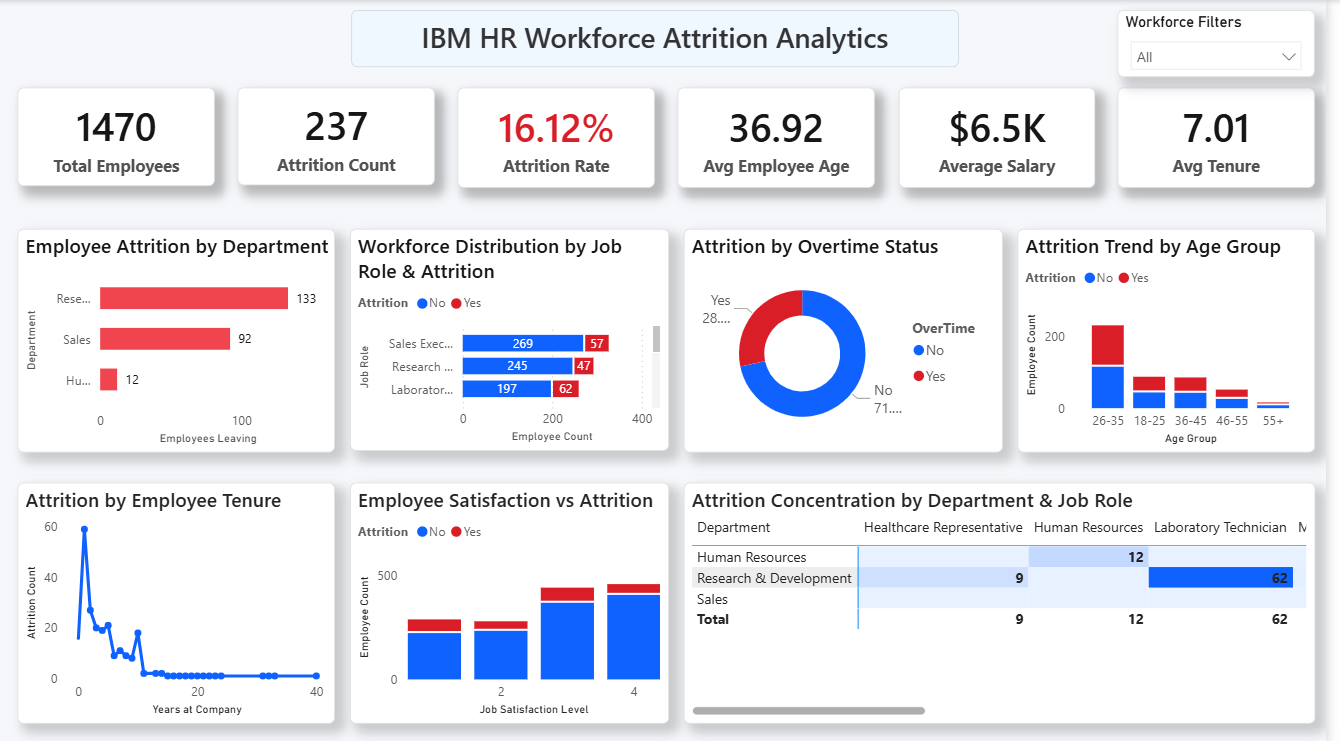

Layout of this report page (visuals, bound fields, positions):
{"tool":"powerbi","page":{"name":"Page 1","canvas":[1280,720],"ordinal":0},"visuals":[{"type":"card","fields":{"Values":["employee_attrition.Total Employees"]},"box":[16.4,84.5,190.6,95.3],"z":0},{"type":"card","fields":{"Values":["employee_attrition.Attrition Count"]},"box":[229.1,84.5,190.6,94.1],"z":1000},{"type":"card","fields":{"Values":["employee_attrition.Attrition Rate %"]},"box":[441.8,84.5,190.6,96.5],"z":2000},{"type":"card","fields":{"Values":["employee_attrition.Average Age"]},"box":[654.4,84.5,190.6,96.5],"z":3000},{"type":"card","fields":{"Values":["employee_attrition.Average Monthly Income"]},"box":[867.1,84.5,189.4,96.5],"z":4000},{"type":"card","fields":{"Values":["employee_attrition.Average Years at Company"]},"box":[1078.6,84.5,190.6,96.5],"z":5000},{"type":"clusteredBarChart","title":"Employee Attrition by Department","fields":{"Category":["employee_attrition.Department"],"Y":["employee_attrition.Attrition Count"]},"box":[16.9,220.8,306.4,216],"z":6000},{"type":"barChart","title":"Workforce Distribution by Job Role & Attrition","fields":{"Series":["employee_attrition.Attrition"],"Category":["employee_attrition.JobRole"],"Y":["CountNonNull(employee_attrition.EmployeeNumber)"]},"box":[337.8,220.8,307.6,214.7],"z":7000},{"type":"donutChart","title":"Attrition by Overtime Status","fields":{"Category":["employee_attrition.OverTime"],"Y":["CountNonNull(employee_attrition.Attrition)"]},"box":[659.9,220.8,307.6,216],"z":8000},{"type":"lineChart","title":"Attrition by Employee Tenure","fields":{"Category":["employee_attrition.YearsAtCompany"],"Y":["employee_attrition.Attrition Count"]},"box":[16.9,465.7,306.4,232.8],"z":9000},{"type":"columnChart","title":"Employee Satisfaction vs Attrition","fields":{"Category":["employee_attrition.JobSatisfaction"],"Series":["employee_attrition.Attrition"],"Y":["CountNonNull(employee_attrition.EmployeeNumber)"]},"box":[337.8,465.7,307.6,232.8],"z":10000},{"type":"pivotTable","title":"Attrition Concentration by Department & Job Role","fields":{"Rows":["employee_attrition.Department"],"Columns":["employee_attrition.JobRole"],"Values":["employee_attrition.Attrition Count"]},"box":[659.9,465.7,609.3,232.8],"z":11000},{"type":"slicer","title":"Workforce Filters","fields":{"Values":["employee_attrition.Department","employee_attrition.JobRole","employee_attrition.Gender","employee_attrition.MaritalStatus","employee_attrition.EducationField"]},"box":[1078.6,9.7,190.6,65.1],"z":12000},{"type":"columnChart","title":"Attrition Trend by Age Group","fields":{"Category":["employee_attrition.Age Group"],"Series":["employee_attrition.Attrition"],"Y":["employee_attrition.Attrition Count"]},"box":[982,220.8,287.1,216],"z":13000},{"type":"textbox","box":[339,9.7,586.3,55.5],"z":14000}]}

Visuals, with their boxes in screenshot pixels (x1, y1, x2, y2), scaled from the page's 1280x720 canvas onto the 1340x741 screenshot:
card - employee_attrition.Total Employees: (left=17, top=87, right=217, bottom=185)
card - employee_attrition.Attrition Count: (left=240, top=87, right=439, bottom=184)
card - employee_attrition.Attrition Rate %: (left=463, top=87, right=662, bottom=186)
card - employee_attrition.Average Age: (left=685, top=87, right=885, bottom=186)
card - employee_attrition.Average Monthly Income: (left=908, top=87, right=1106, bottom=186)
card - employee_attrition.Average Years at Company: (left=1129, top=87, right=1329, bottom=186)
"Employee Attrition by Department" clusteredBarChart: (left=18, top=227, right=338, bottom=450)
"Workforce Distribution by Job Role & Attrition" barChart: (left=354, top=227, right=676, bottom=448)
"Attrition by Overtime Status" donutChart: (left=691, top=227, right=1013, bottom=450)
"Attrition by Employee Tenure" lineChart: (left=18, top=479, right=338, bottom=719)
"Employee Satisfaction vs Attrition" columnChart: (left=354, top=479, right=676, bottom=719)
"Attrition Concentration by Department & Job Role" pivotTable: (left=691, top=479, right=1329, bottom=719)
"Workforce Filters" slicer: (left=1129, top=10, right=1329, bottom=77)
"Attrition Trend by Age Group" columnChart: (left=1028, top=227, right=1329, bottom=450)
textbox: (left=355, top=10, right=969, bottom=67)
